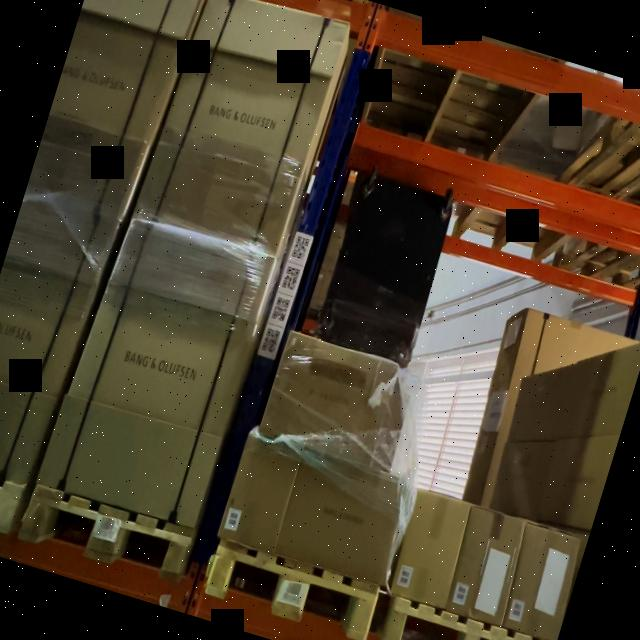box: (35, 218, 273, 529), (132, 0, 350, 257), (258, 329, 418, 471), (275, 448, 417, 585), (216, 434, 304, 550), (390, 485, 471, 606), (448, 507, 525, 626)
